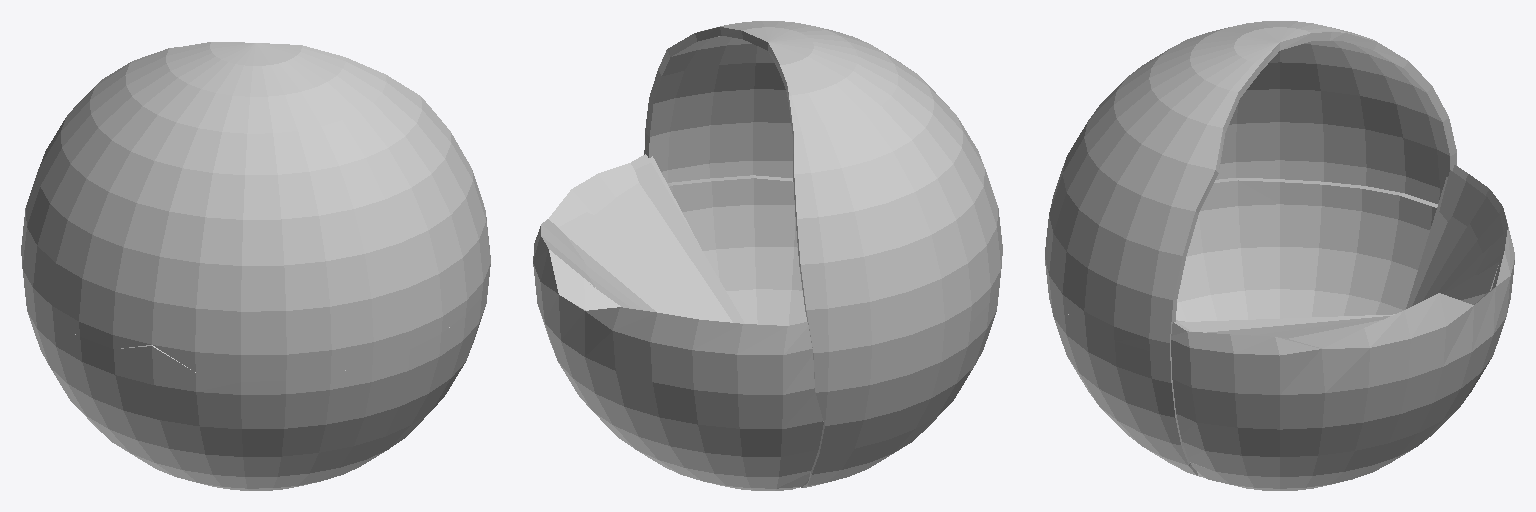
Rendered from broken_ball123.obj.
3 renders of one model, left to right at view 1: azimuth 30°, elevation 25°; view 2: azimuth 150°, elevation 25°; view 3: azimuth 270°, elevation 25°, orthographic.
Parts seen in each view (by area): view 1: piece3_Sphere.004, piece4_Sphere.005; view 2: piece3_Sphere.004, piece_1_Sphere.003, piece4_Sphere.005; view 3: piece3_Sphere.004, piece_1_Sphere.003, piece4_Sphere.005.
Boxes of the visible parts, box(x1,y1,x2,y2) form: piece3_Sphere.004: box(21, 42, 490, 381); piece4_Sphere.005: box(25, 276, 489, 490); piece3_Sphere.004: box(644, 21, 1002, 368); piece_1_Sphere.003: box(533, 154, 823, 490); piece4_Sphere.005: box(667, 175, 999, 487); piece3_Sphere.004: box(1045, 21, 1456, 357); piece_1_Sphere.003: box(1171, 165, 1514, 490); piece4_Sphere.005: box(1047, 178, 1437, 484).
Bounding box in the file's own units: 0.52 × 0.52 × 0.52.